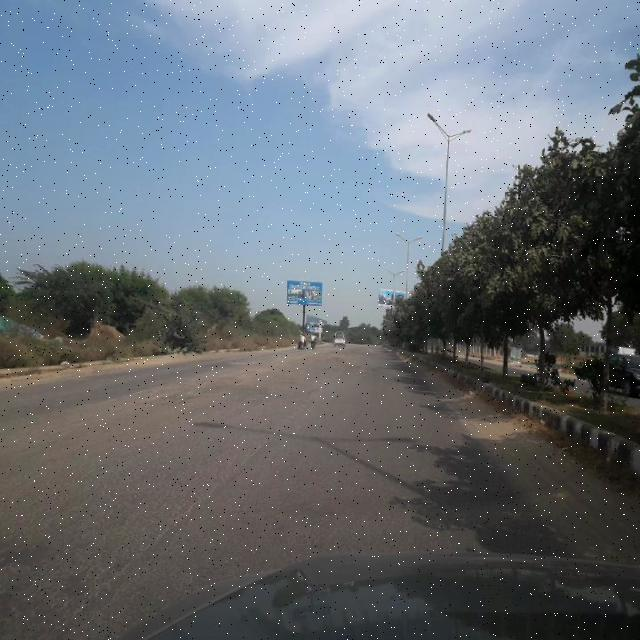D00: (58, 385, 324, 627)
D20: (11, 410, 384, 629)
D40: (332, 354, 384, 386)
